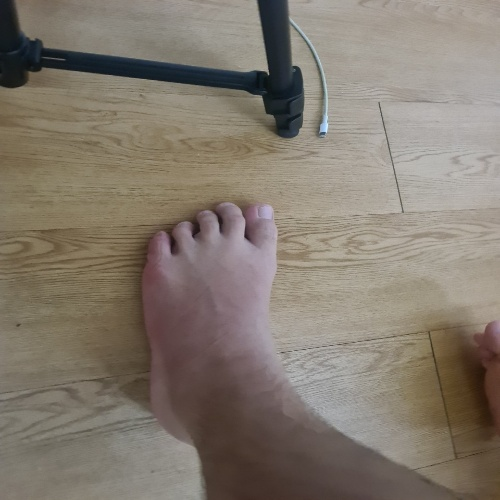3: (245, 202, 278, 248)
Top_Foot: (139, 203, 285, 439)
